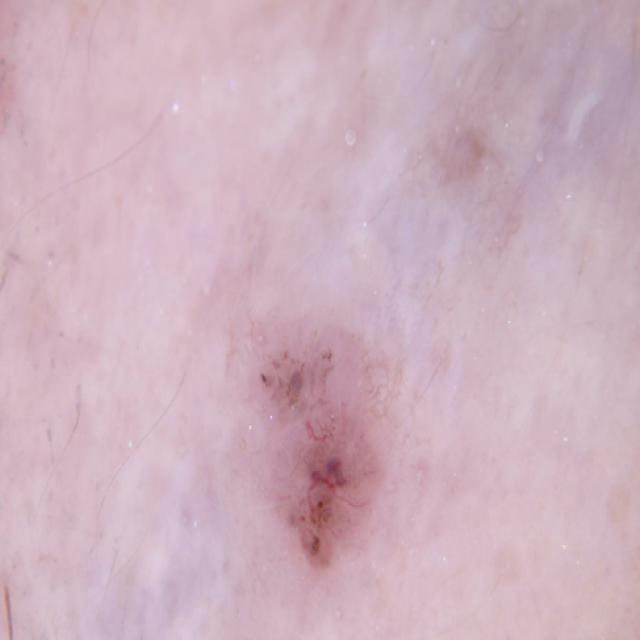Carcinoma: (204, 284, 452, 608), (0, 10, 78, 251)
